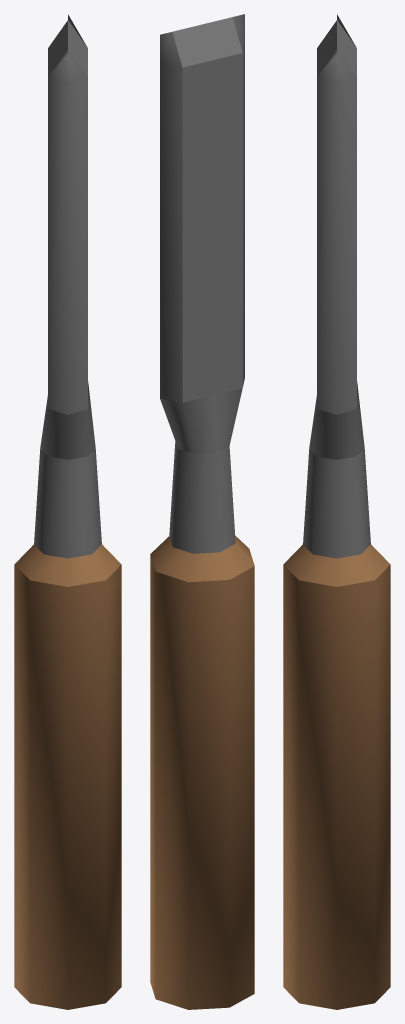
Rendered from Chisel.fbx.
3 renders of one model, left to right at view 1: azimuth 90°, elevation 25°; view 2: azimuth 210°, elevation 25°; view 3: azimuth 270°, elevation 25°, orthographic.
Visible parts, largest first — view 1: Chisel; view 2: Chisel; view 3: Chisel.
Part boxes in pixels (bbox=[...]): Chisel: bbox=[14, 14, 121, 1009]; Chisel: bbox=[150, 14, 254, 1009]; Chisel: bbox=[283, 14, 390, 1009].
Size of the model in its own units: 0.055 by 0.54 by 0.055.
